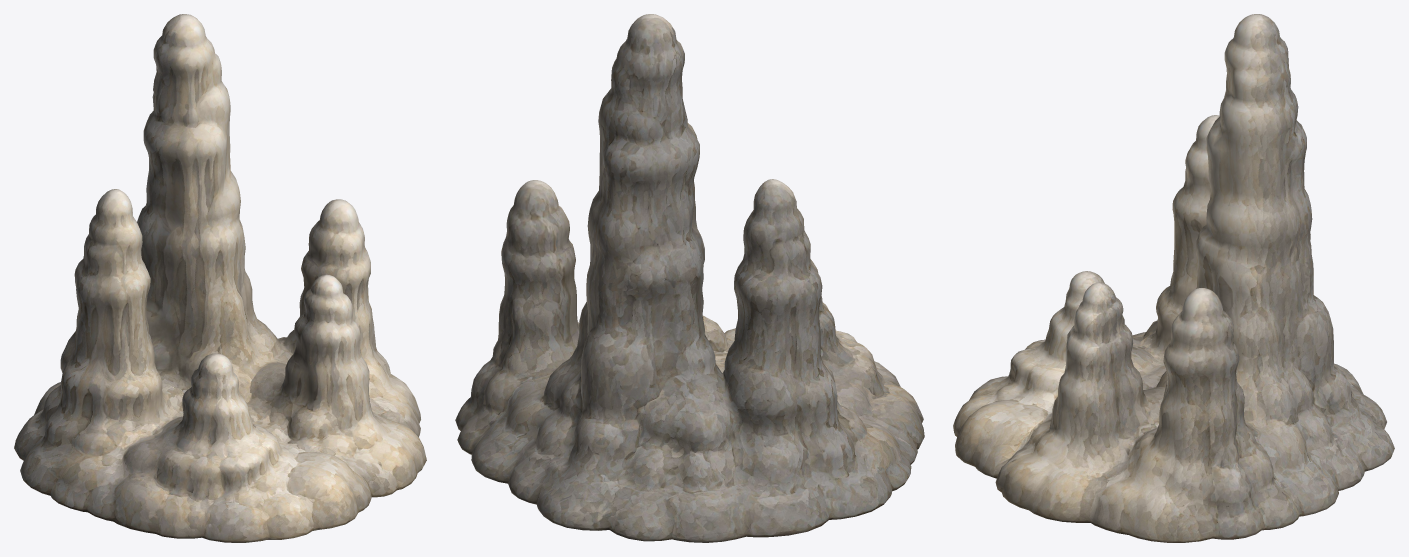
Rendered from dungeon-prop-stalagmites.glb.
3 views of the same model, side by side, from view 1: azimuth 30°, elevation 25°; view 2: azimuth 150°, elevation 25°; view 3: azimuth 270°, elevation 25° (orthographic). The views are drawn at different scales.
Visible parts, largest first — view 1: stalagmites; view 2: stalagmites; view 3: stalagmites.
Boxes of the visible parts, box(x1,y1,x2,y2) form: stalagmites: box(14, 14, 426, 542); stalagmites: box(455, 14, 924, 542); stalagmites: box(953, 14, 1394, 542).
Size of the model in its own units: 1.52 by 1.6 by 1.49.
1 material, 1 textured.
